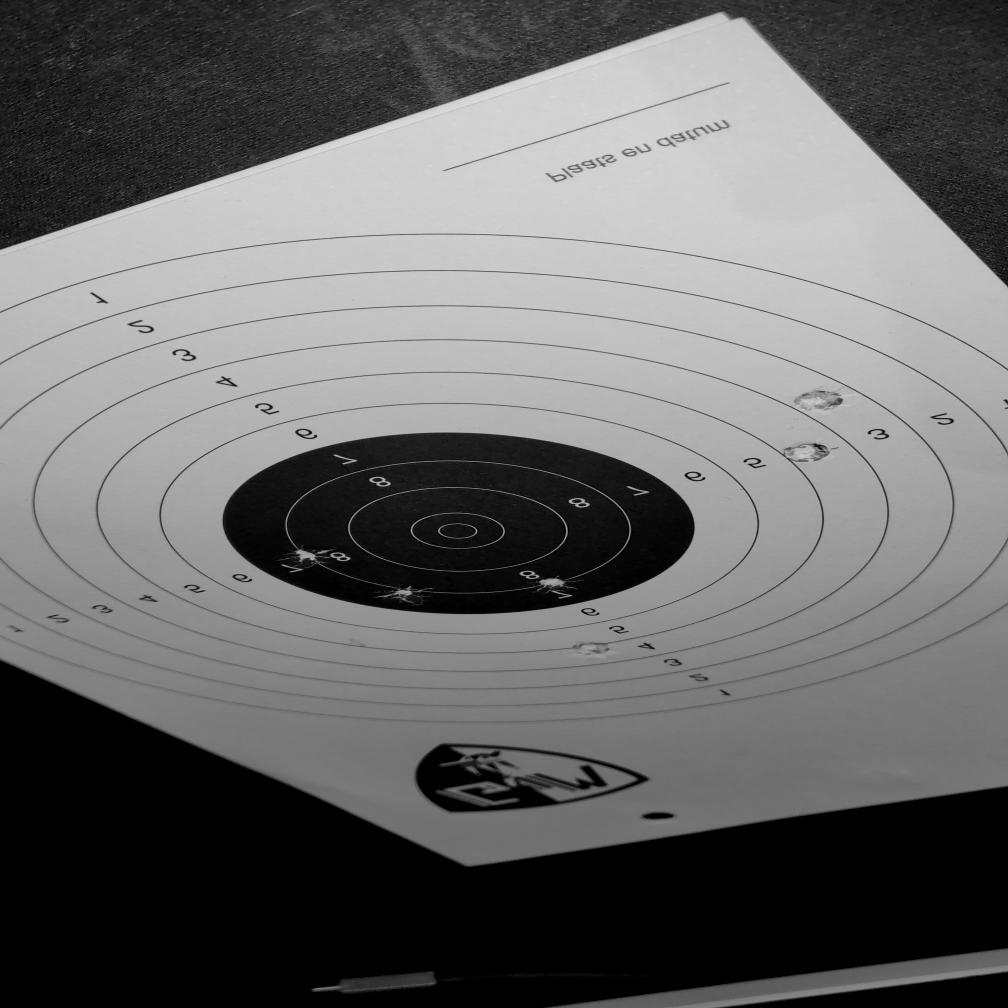3: (790, 387, 853, 411)
4: (780, 441, 838, 467)
5: (570, 640, 617, 659)
8: (277, 543, 339, 568), (378, 583, 424, 604), (529, 573, 574, 593)
Target: (0, 230, 1008, 729)
black_contour: (222, 433, 695, 615)
